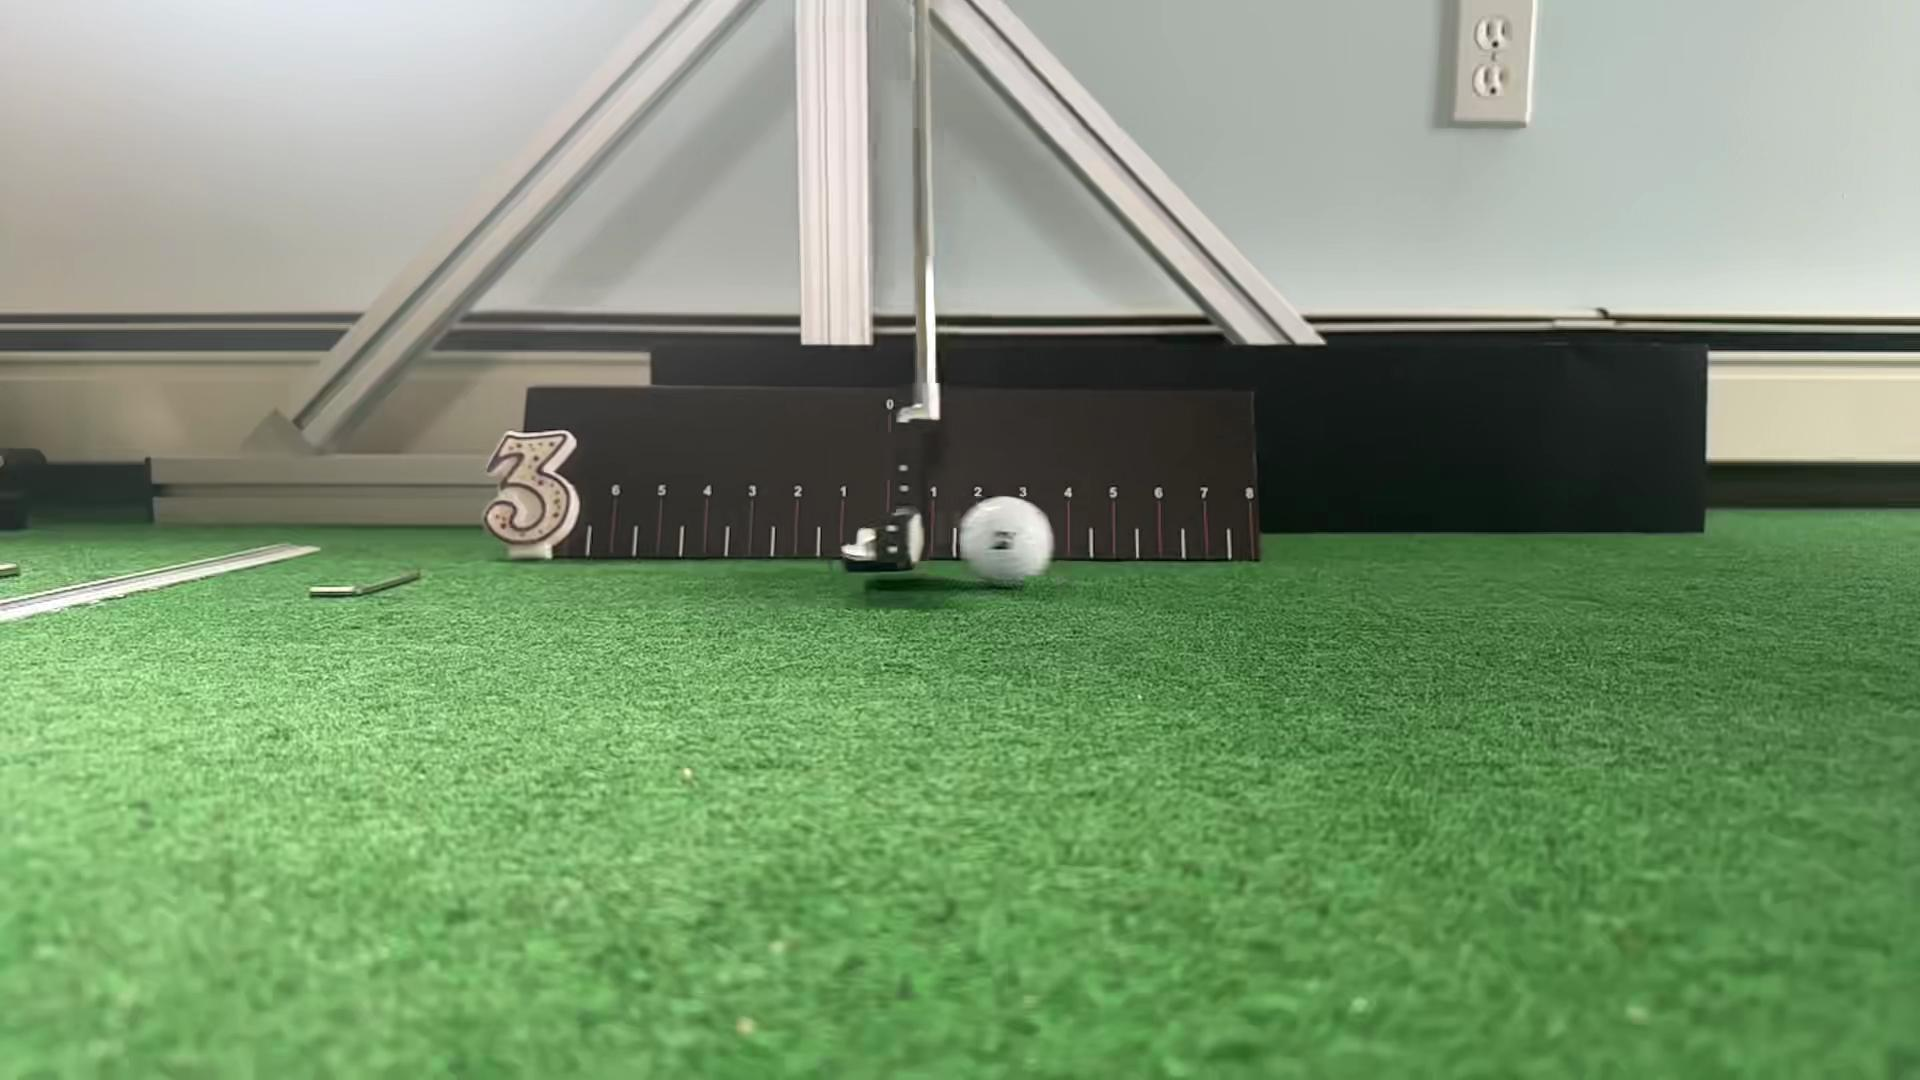golfball: (960, 496, 1053, 584)
